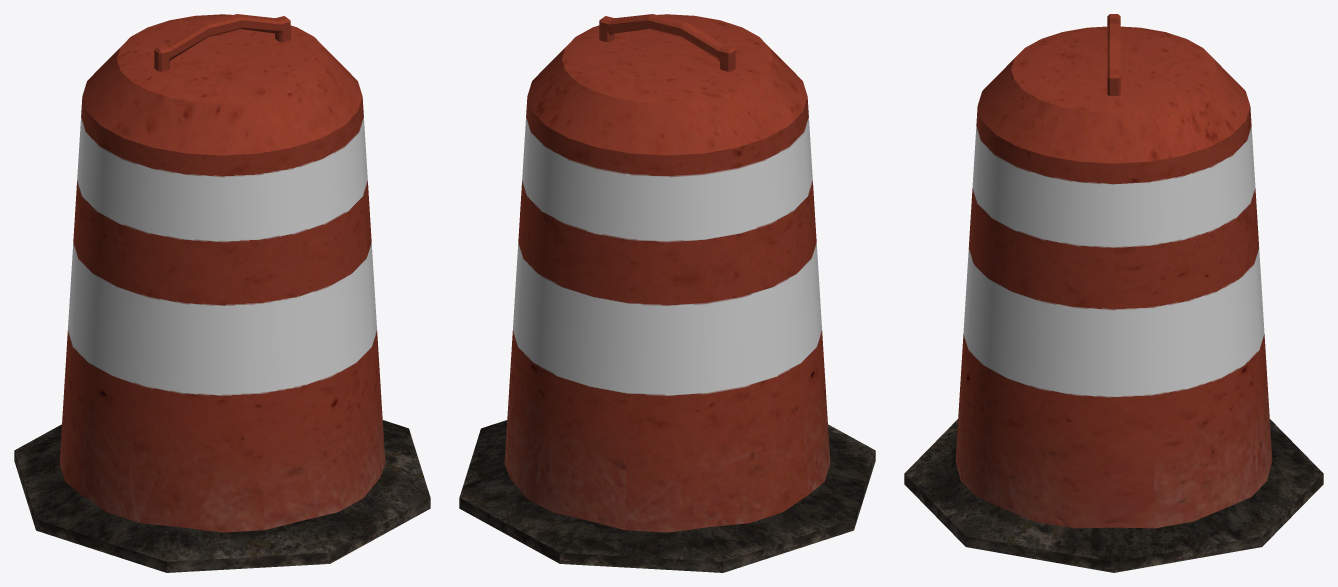
File: Traffic barrel.fbx
The picture shows the model from 3 angles, left to right: view 1: azimuth 30°, elevation 25°; view 2: azimuth 150°, elevation 25°; view 3: azimuth 270°, elevation 25°; orthographic projection. The views are drawn at different scales.
Parts seen in each view (by area): view 1: Traffic barrel; view 2: Traffic barrel; view 3: Traffic barrel.
Boxes of the visible parts, box(x1,y1,x2,y2) form: Traffic barrel: box(14, 14, 430, 572); Traffic barrel: box(459, 14, 875, 572); Traffic barrel: box(904, 14, 1323, 572).
Bounding box in the file's own units: 53.34 × 63.61 × 53.34.
